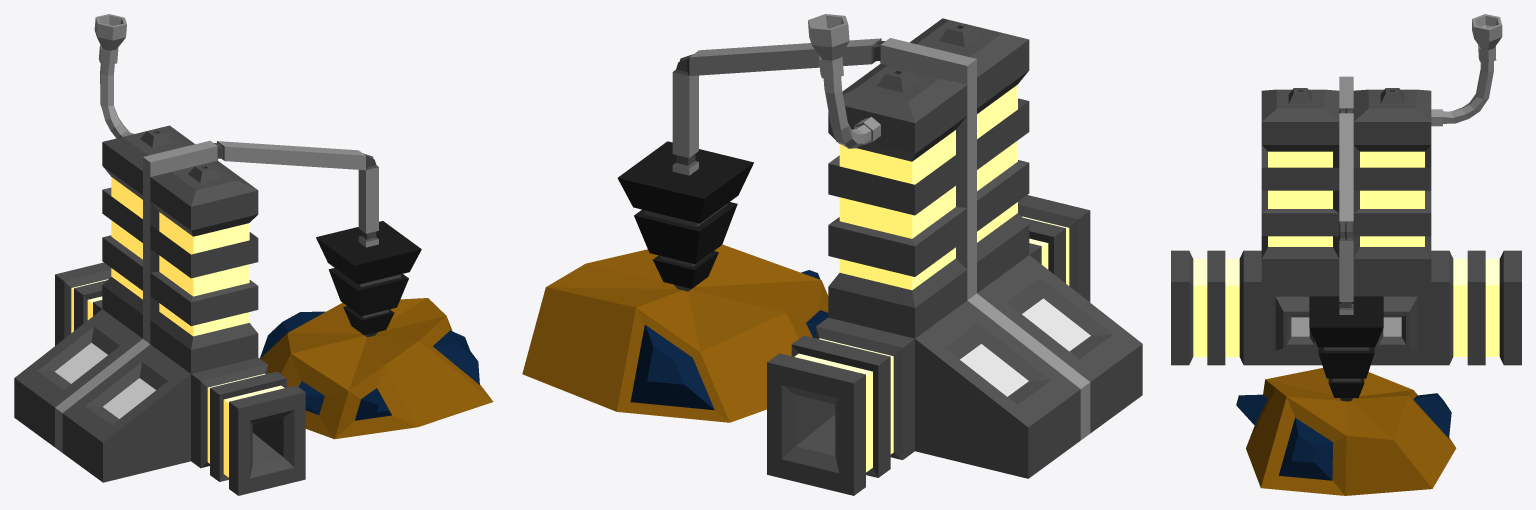
The model's file is Driller.fbx.
The picture shows the model from 3 angles, left to right: view 1: azimuth 30°, elevation 25°; view 2: azimuth 150°, elevation 25°; view 3: azimuth 270°, elevation 25°; orthographic projection. The views are drawn at different scales.
Parts seen in each view (by area): view 1: Cube; view 2: Cube; view 3: Cube.
Part boxes in pixels (x1,y1,x2,y2): Cube: [14, 14, 493, 495]; Cube: [522, 14, 1142, 495]; Cube: [1171, 14, 1521, 495].
Bounding box in the file's own units: 523 × 443 × 409.
